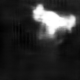plane: (31, 3, 77, 40)
